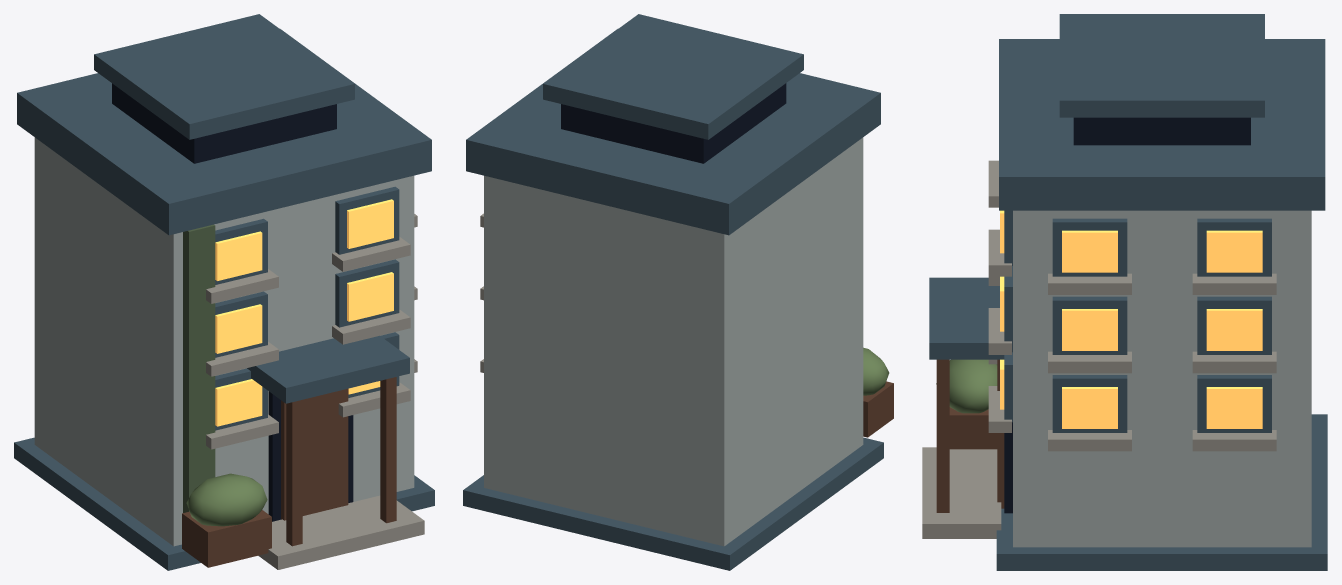
Rendered from office-midrise.glb.
The picture shows the model from 3 angles, left to right: view 1: azimuth 30°, elevation 25°; view 2: azimuth 150°, elevation 25°; view 3: azimuth 270°, elevation 25°; orthographic projection. The views are drawn at different scales.
Parts seen in each view (by area): view 1: OfficeShell, OfficeWindowGlow; view 2: OfficeShell; view 3: OfficeShell, OfficeWindowGlow.
Boxes of the visible parts, x1,y1,x2,y2 form: OfficeShell: (14, 14, 434, 570); OfficeWindowGlow: (215, 199, 393, 426); OfficeShell: (463, 14, 893, 570); OfficeShell: (922, 14, 1327, 570); OfficeWindowGlow: (1000, 210, 1262, 428).
Bounding box in the file's own units: 1.45 × 2.12 × 1.74.
